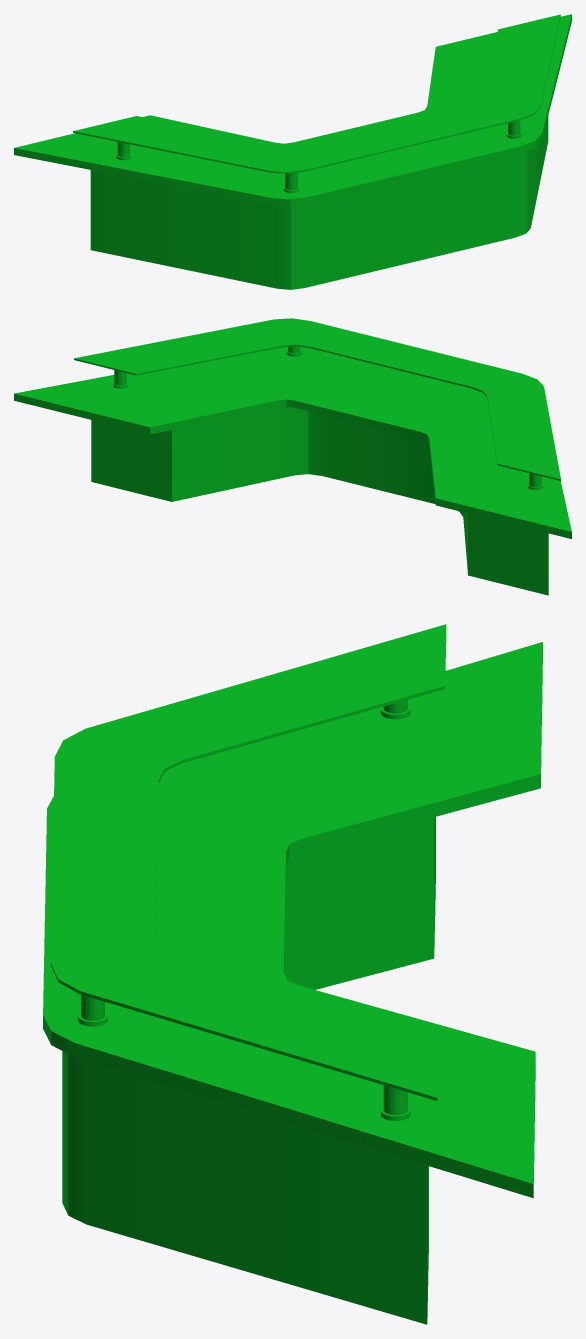
Rendered from FrontDesk_Base.FBX.
The picture shows the model from 3 angles, top to bottom: view 1: azimuth 30°, elevation 25°; view 2: azimuth 150°, elevation 25°; view 3: azimuth 270°, elevation 25°; orthographic projection. The views are drawn at different scales.
Visible parts, largest first — view 1: FrontDesk, FrontDesk_Glass; view 2: FrontDesk, FrontDesk_Glass; view 3: FrontDesk, FrontDesk_Glass.
Boxes of the visible parts, left/top/right/bottom form: FrontDesk: left=14, top=14, right=571, bottom=289; FrontDesk_Glass: left=73, top=14, right=560, bottom=173; FrontDesk: left=14, top=346, right=571, bottom=595; FrontDesk_Glass: left=74, top=318, right=560, bottom=480; FrontDesk: left=43, top=642, right=542, bottom=1324; FrontDesk_Glass: left=50, top=624, right=446, bottom=1100.
Bounding box in the file's own units: 397 × 82.33 × 154.
